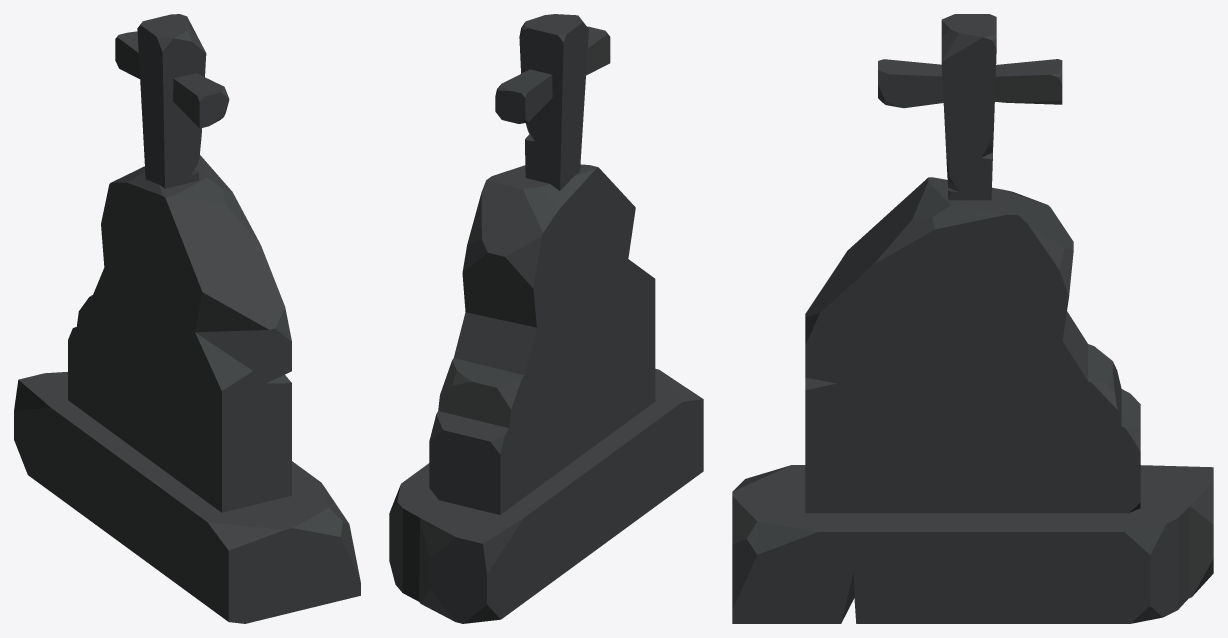
File: gravestone1.fbx
The picture shows the model from 3 angles, left to right: view 1: azimuth 30°, elevation 25°; view 2: azimuth 150°, elevation 25°; view 3: azimuth 270°, elevation 25°; orthographic projection. The views are drawn at different scales.
Parts seen in each view (by area): view 1: gravestone1; view 2: gravestone1; view 3: gravestone1.
Part boxes in pixels (box(x1,y1,x2,y2)): gravestone1: box(14, 14, 360, 623); gravestone1: box(389, 14, 703, 623); gravestone1: box(732, 14, 1213, 623).
Bounding box in the file's own units: 0.5451 × 2.1 × 1.65.
